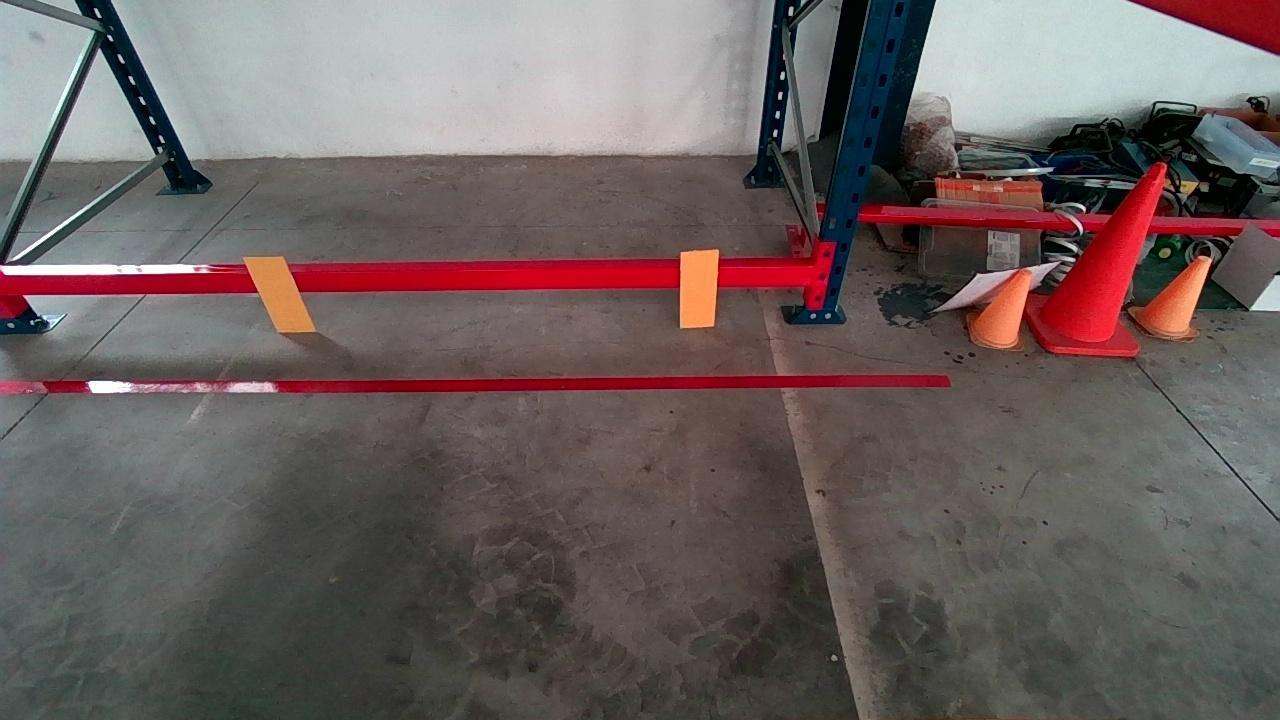h_rack: (13, 258, 817, 298)
orange_strip: (244, 255, 315, 330), (679, 249, 718, 326)
red_line: (7, 365, 950, 393)
